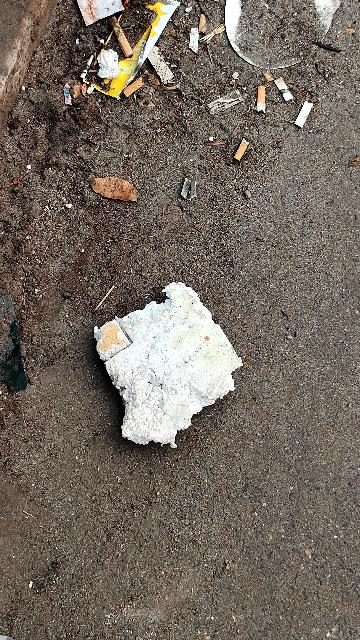cocksheet: (74, 265, 267, 453)
